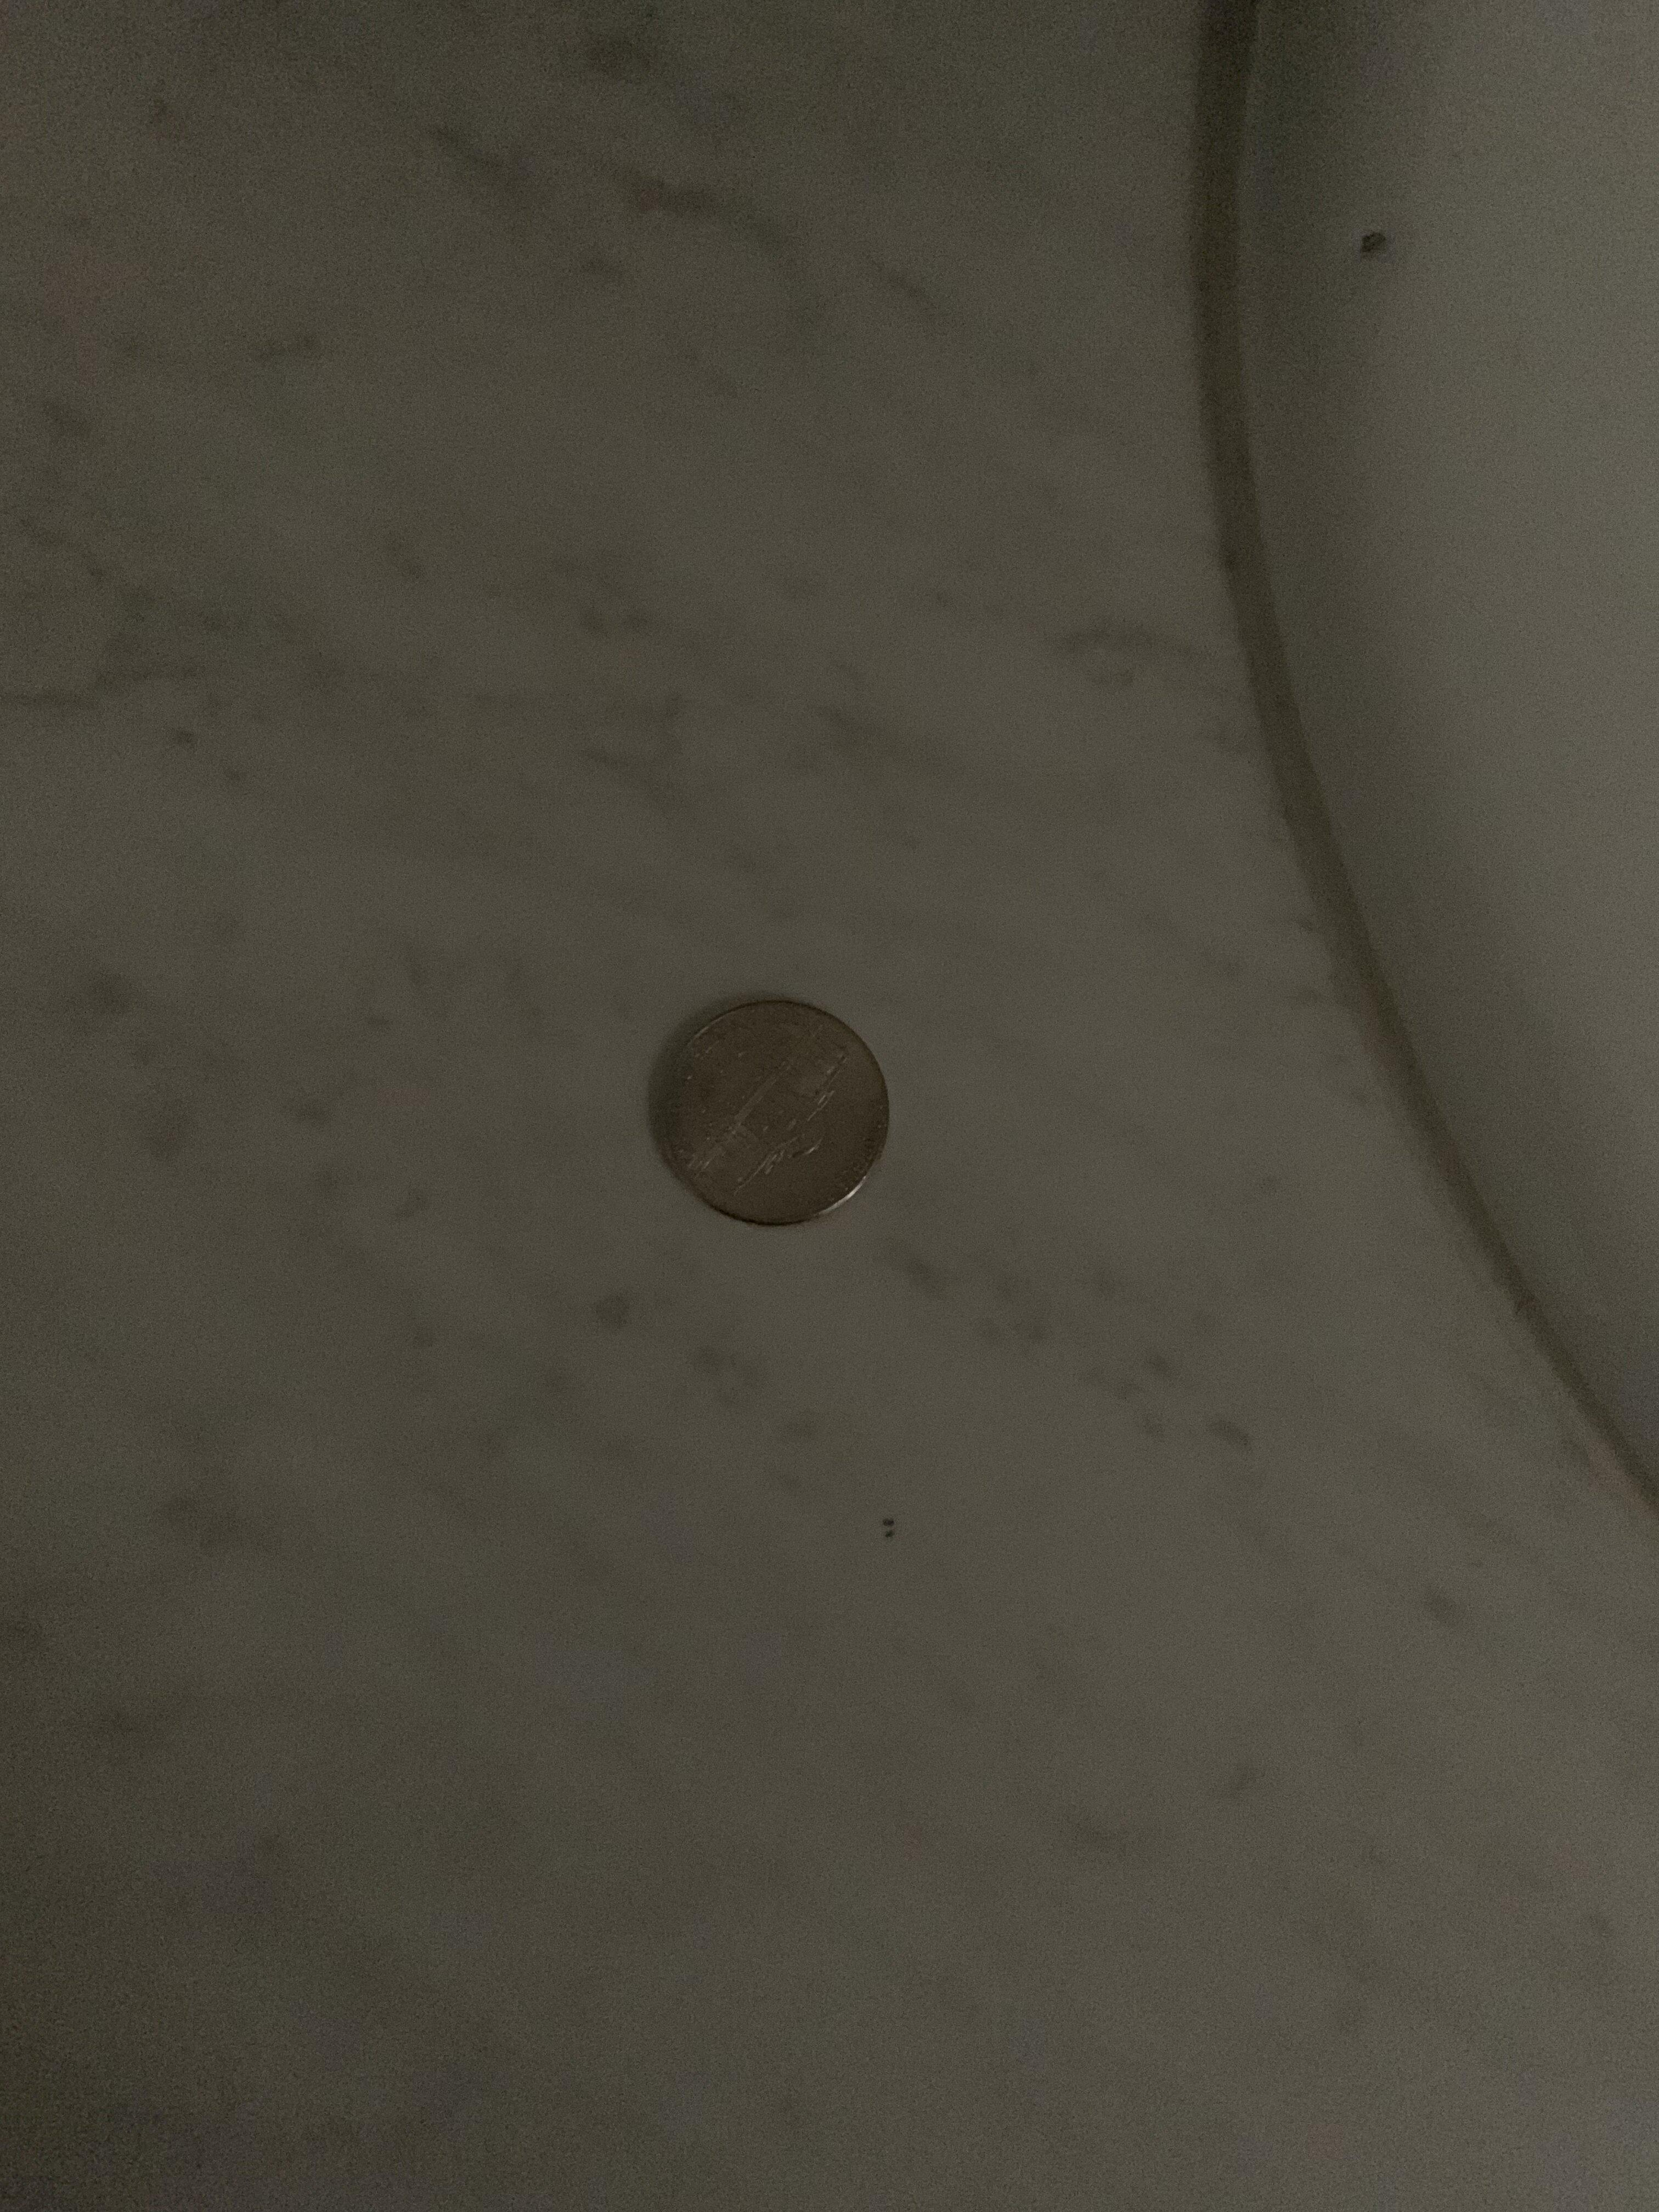Nickel: (598, 946, 922, 1263)
